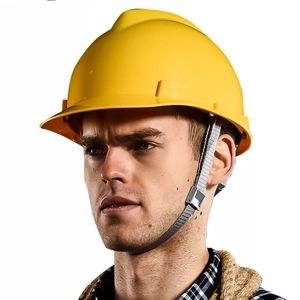helmet: (40, 6, 253, 155)
